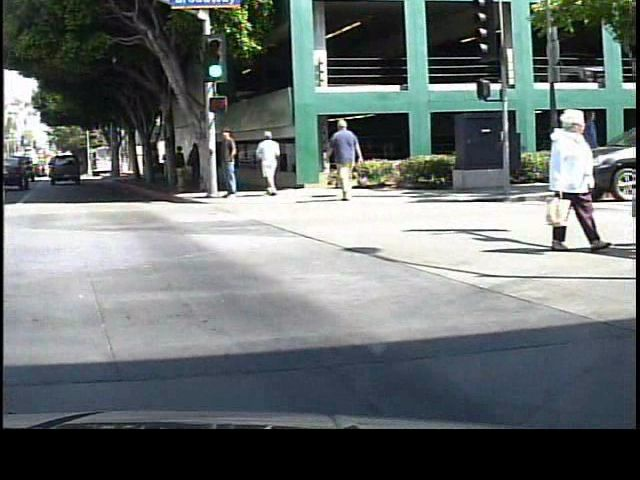person: (537, 101, 609, 258), (328, 116, 364, 200), (219, 127, 249, 208), (573, 105, 602, 185), (255, 125, 284, 198), (185, 139, 205, 191), (170, 143, 186, 189)
